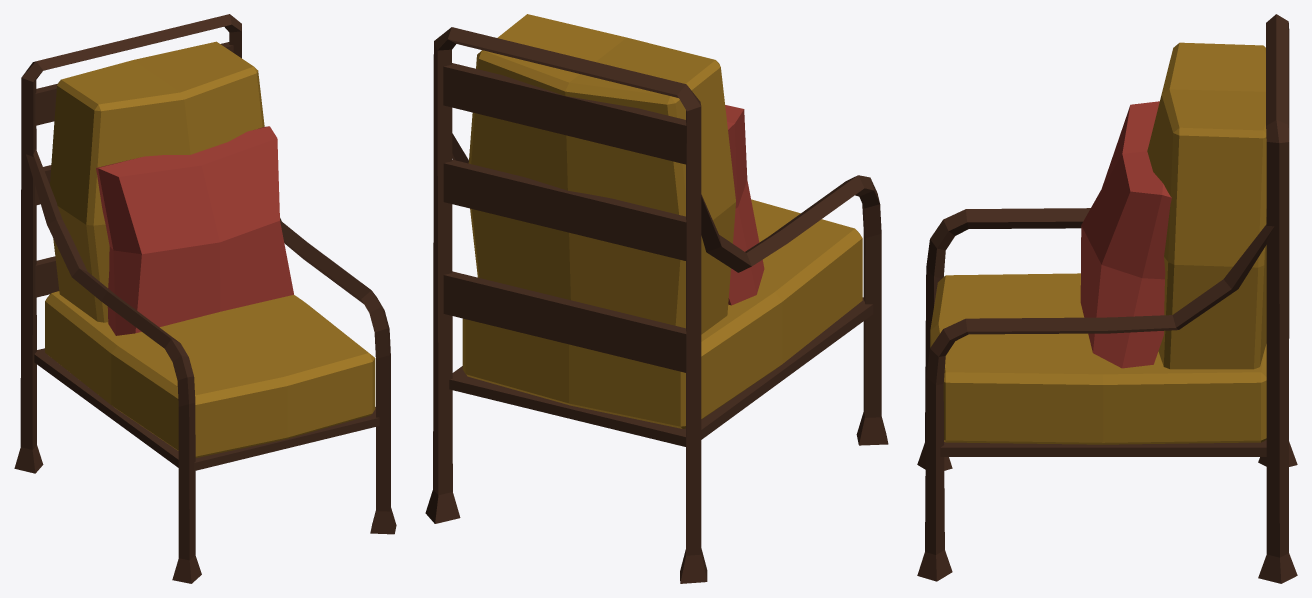
File: Chair1.glb
3 views of the same model, side by side, from view 1: azimuth 30°, elevation 25°; view 2: azimuth 150°, elevation 25°; view 3: azimuth 270°, elevation 25° (orthographic). The views are drawn at different scales.
Visible parts, largest first — view 1: Chair1; view 2: Chair1; view 3: Chair1.
Boxes of the visible parts, left/top/right/bottom form: Chair1: left=14, top=14, right=396, bottom=583; Chair1: left=425, top=14, right=888, bottom=583; Chair1: left=917, top=14, right=1297, bottom=583.
Size of the model in its own units: 0.8759 by 1.45 by 1.11.
